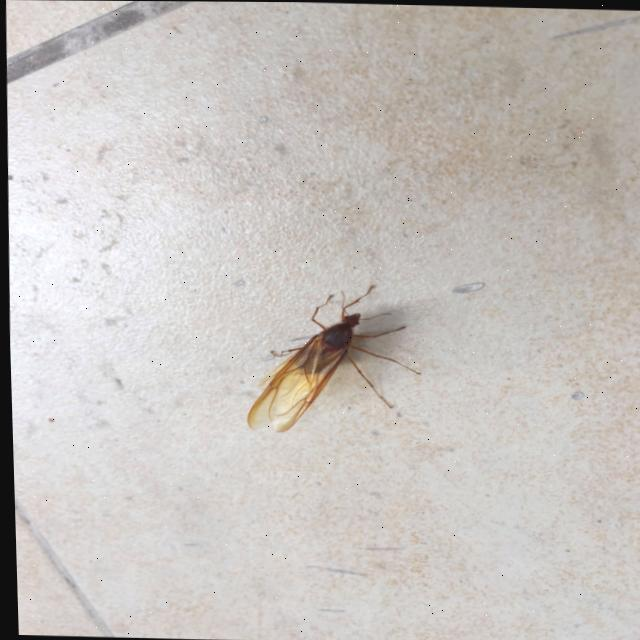Alive-Male-Alate: (240, 280, 422, 435)
